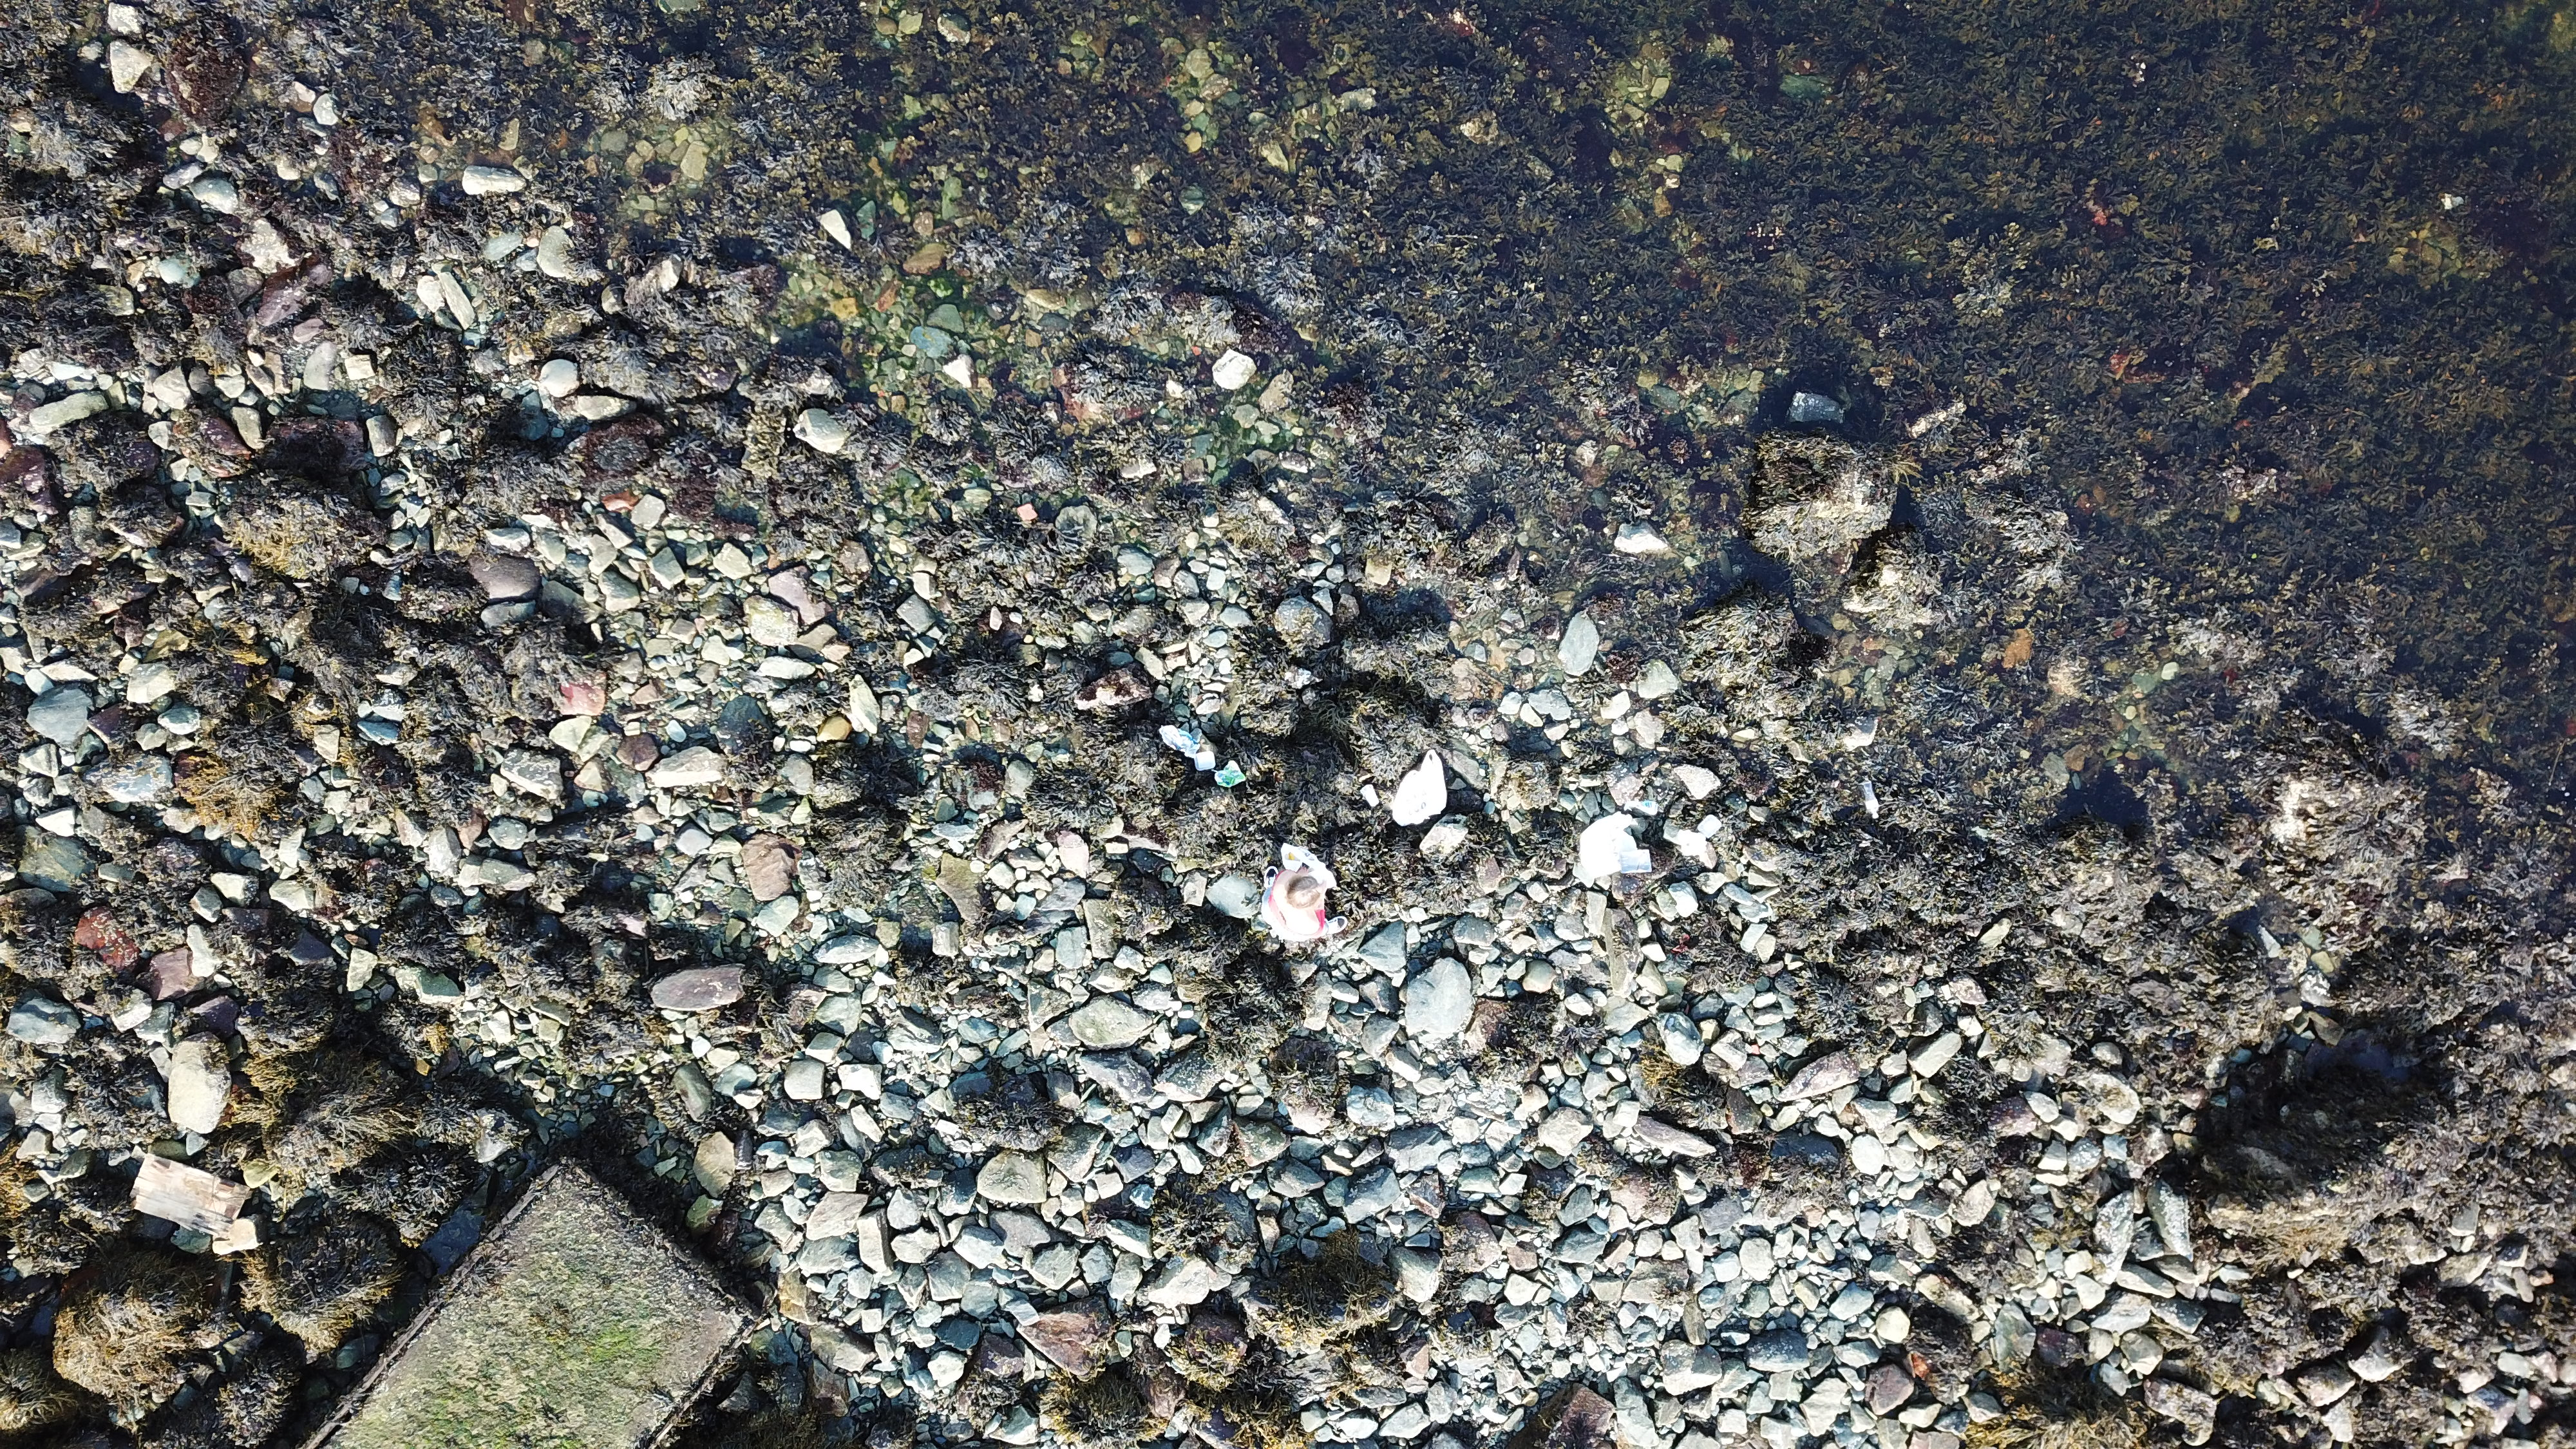Plastic: (1392, 750, 1447, 826), (1578, 814, 1638, 876), (1159, 724, 1198, 759), (1215, 761, 1249, 789), (1621, 849, 1654, 876), (1626, 798, 1660, 816), (1359, 784, 1380, 809), (1191, 750, 1215, 771)
PlasticBottle: (1859, 778, 1881, 821)
